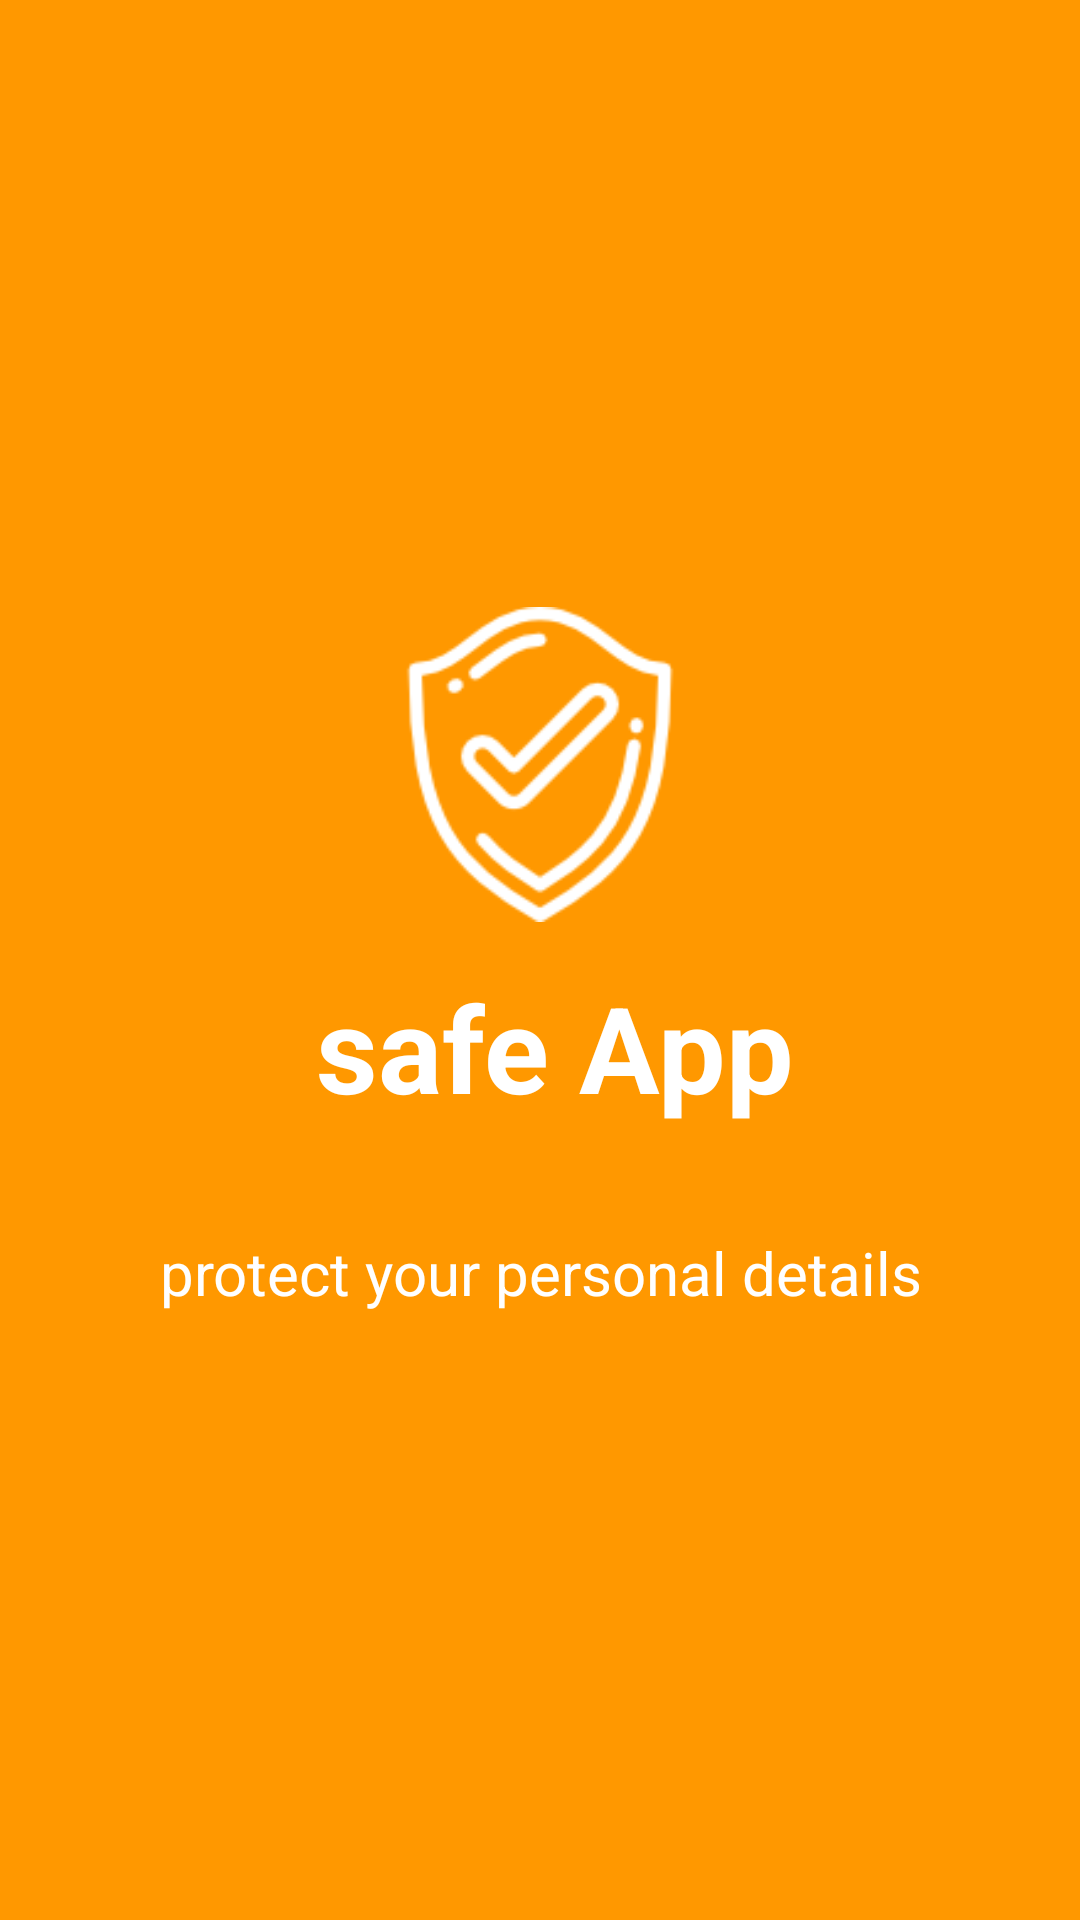

Icon bounding boxes for this 1080px x 1920px phone screenshot, format (x1, y1, x2, y2):
shield: (407, 607, 673, 922)
